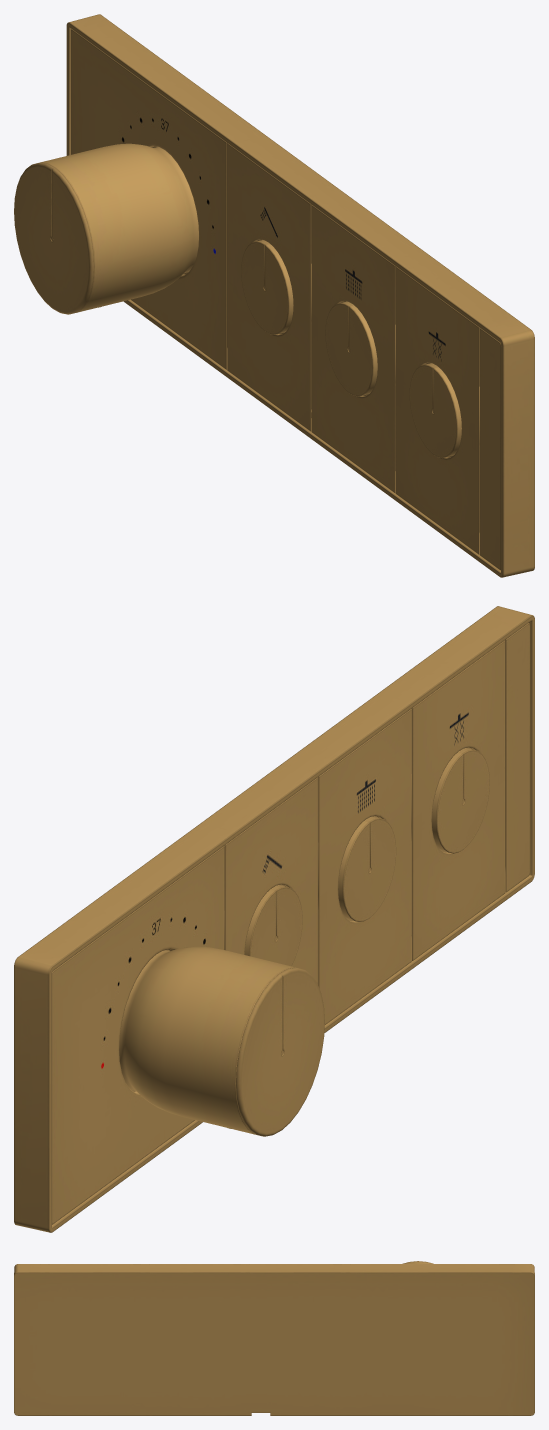
3 views of the same model, one above another, from view 1: azimuth 30°, elevation 25°; view 2: azimuth 150°, elevation 25°; view 3: azimuth 270°, elevation 25° (orthographic). The views are drawn at different scales.
Parts seen in each view (by area): view 1: 26347; view 2: 26347; view 3: 26347.
Boxes of the visible parts, x1=… form: 26347: x1=14, y1=14, x2=534, y2=577; 26347: x1=14, y1=606, x2=534, y2=1232; 26347: x1=14, y1=1261, x2=534, y2=1415.
Bounding box in the file's own units: 2.52 × 4.04 × 13.3.
Materials: 1 (1 with a texture image).
